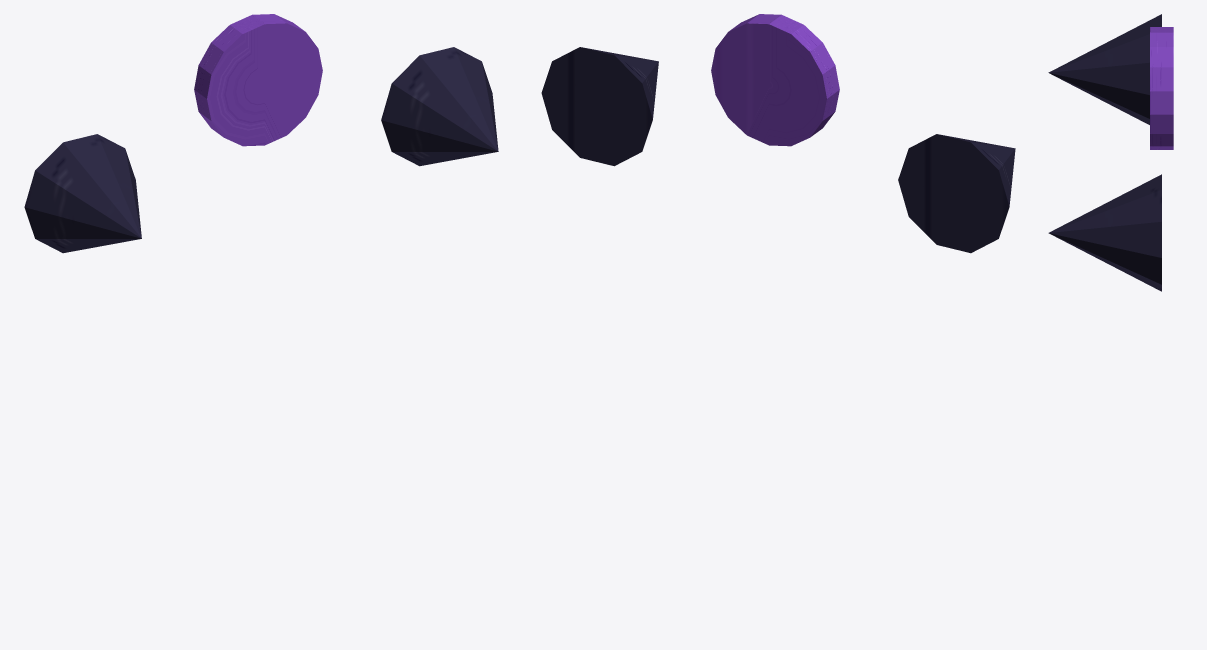
Rendered from yomi_rift_gate.obj.
3 views of the same model, side by side, from view 1: azimuth 30°, elevation 25°; view 2: azimuth 150°, elevation 25°; view 3: azimuth 270°, elevation 25° (orthographic). The views are drawn at different scales.
Size of the model in its own units: 10.6 by 11.9 by 3.05.
1 material, 1 textured.
